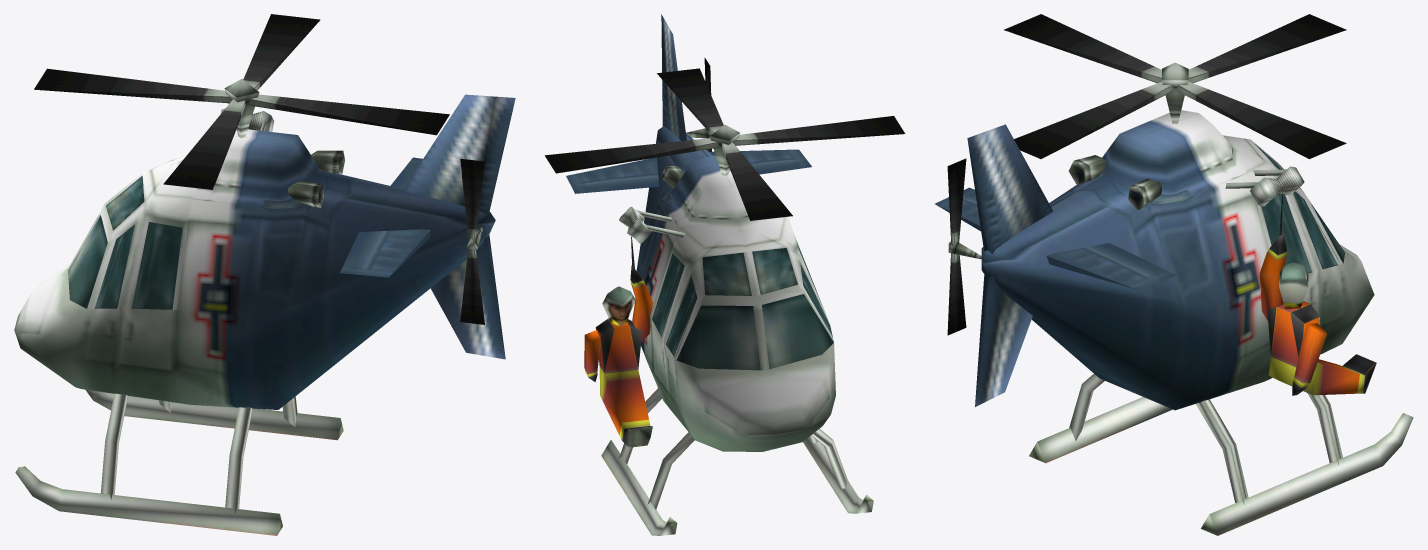
Rendered from heli.ico.obj.
3 renders of one model, left to right at view 1: azimuth 30°, elevation 25°; view 2: azimuth 150°, elevation 25°; view 3: azimuth 270°, elevation 25°, orthographic. The views are drawn at different scales.
Size of the model in its own units: 4.48 by 4.38 by 4.48.
Materials: 1 (1 with a texture image).
